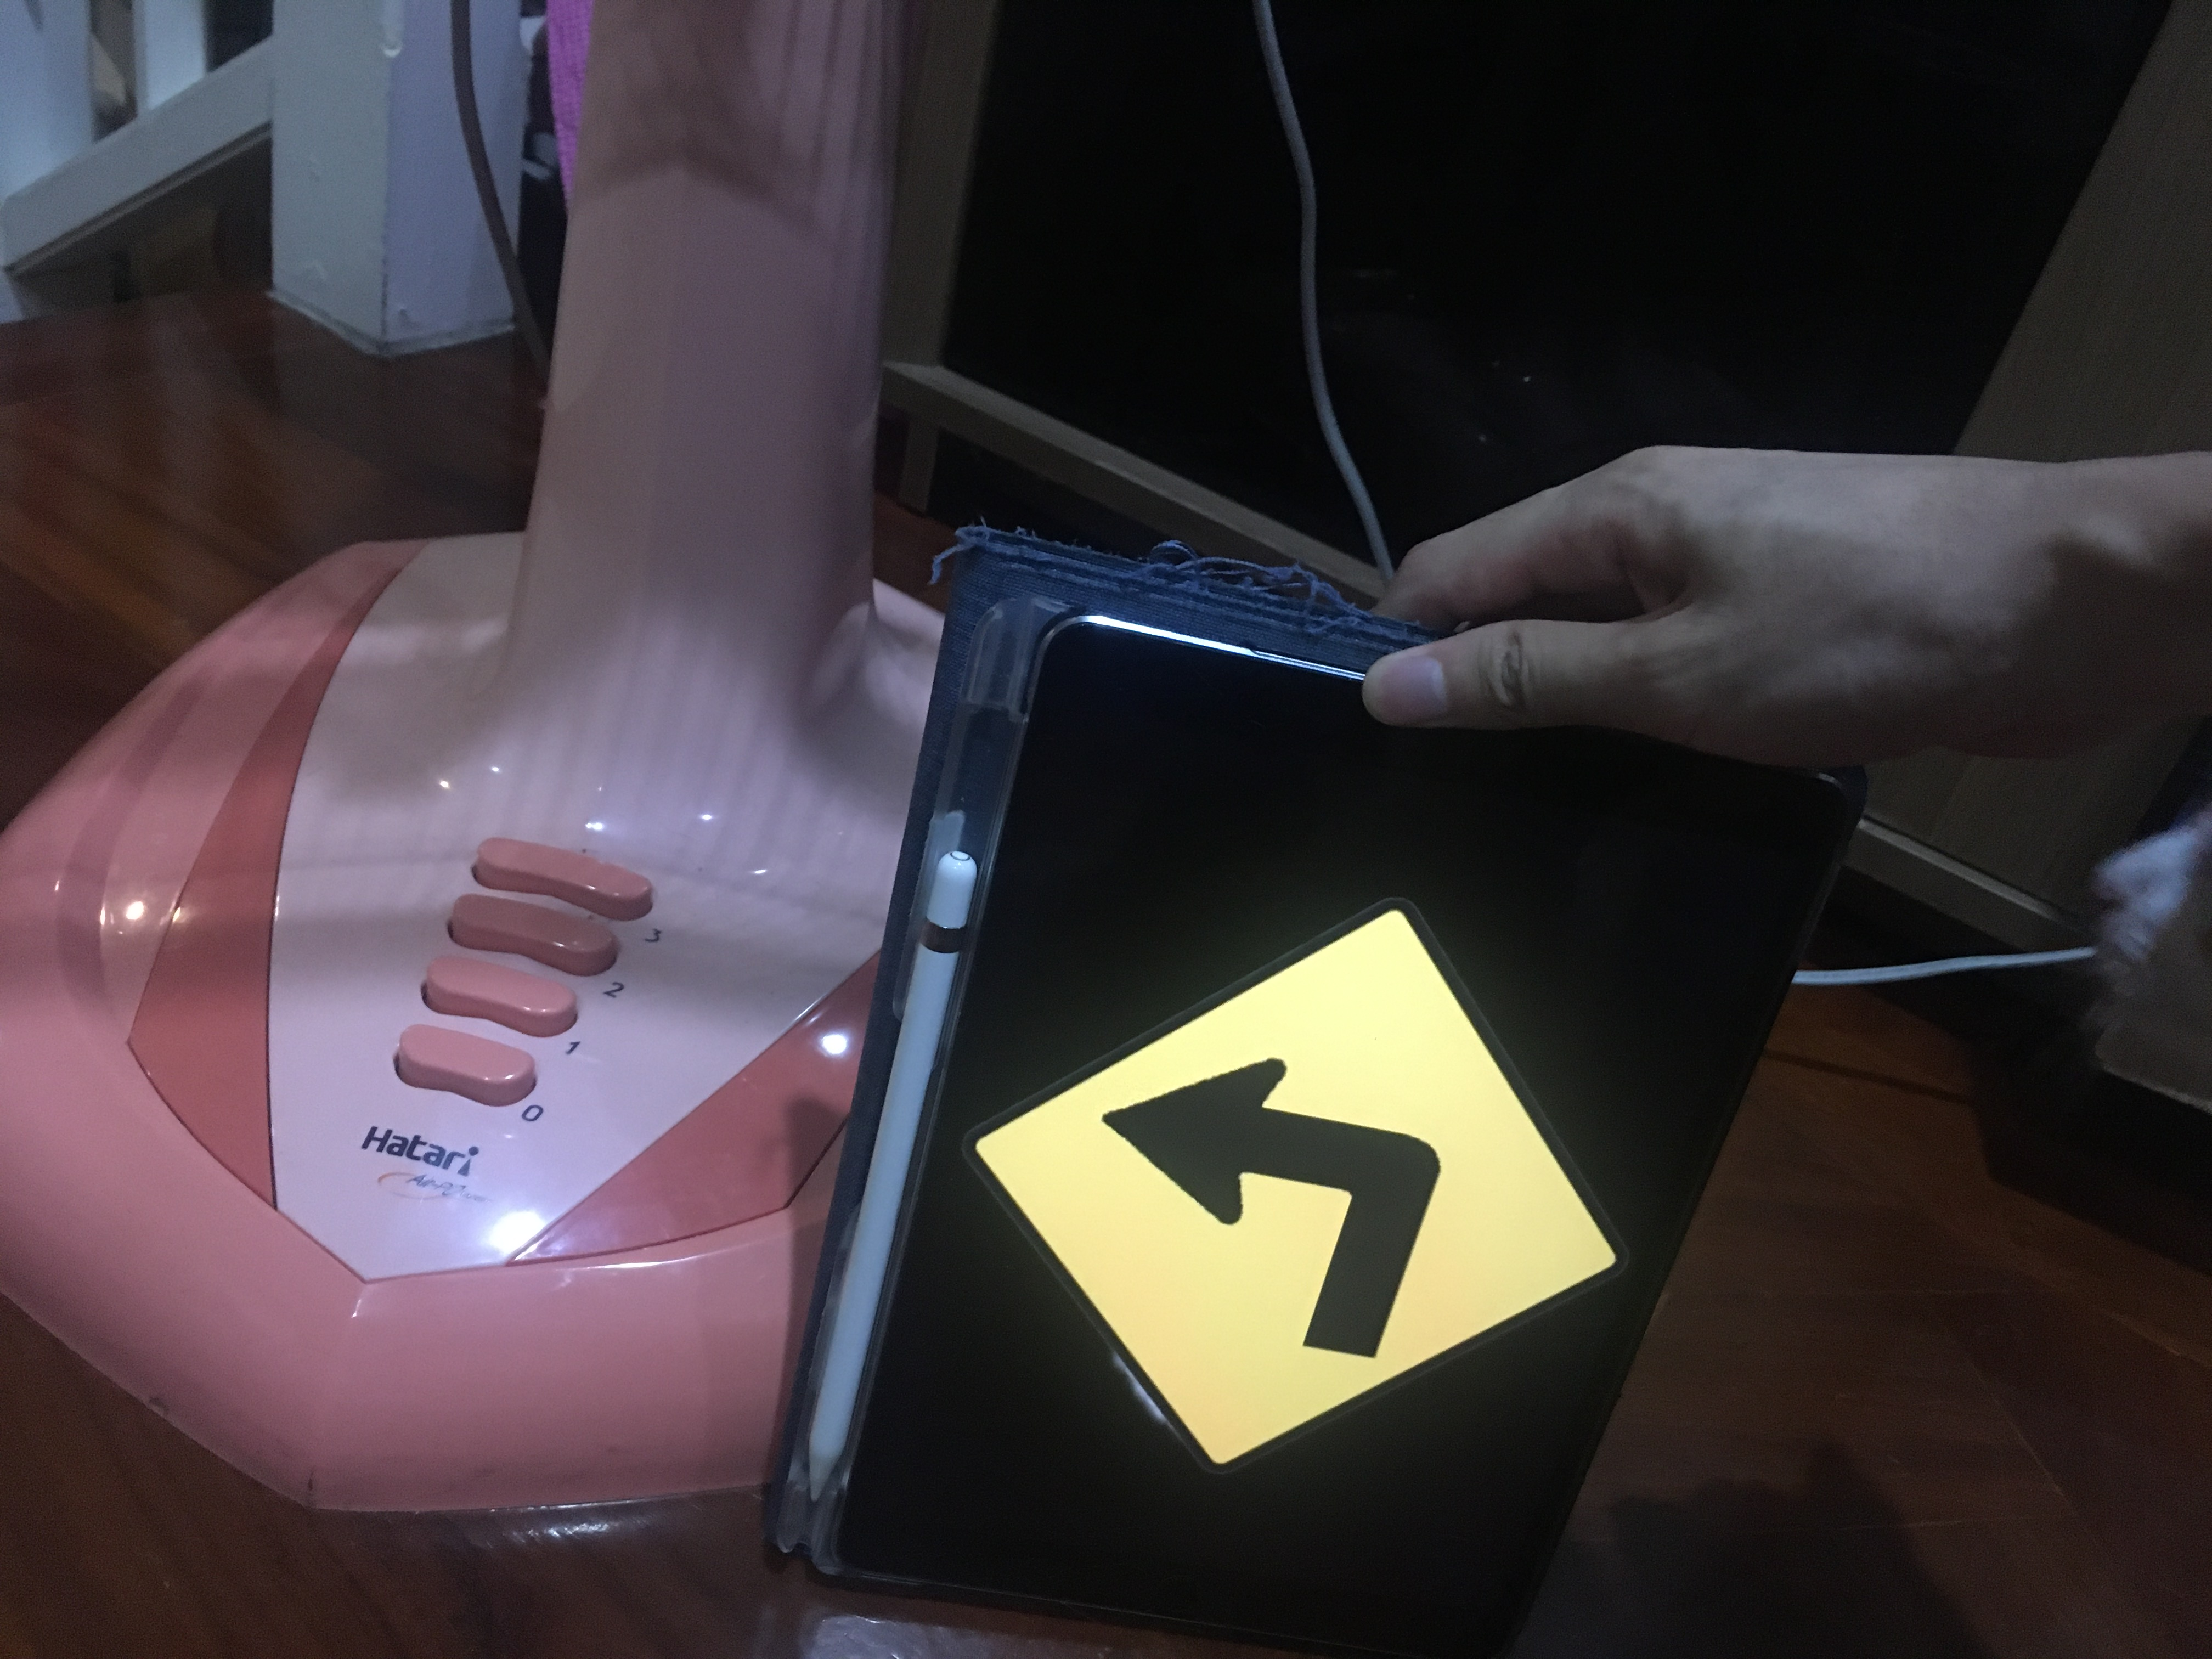left: (957, 883, 1654, 1526)
